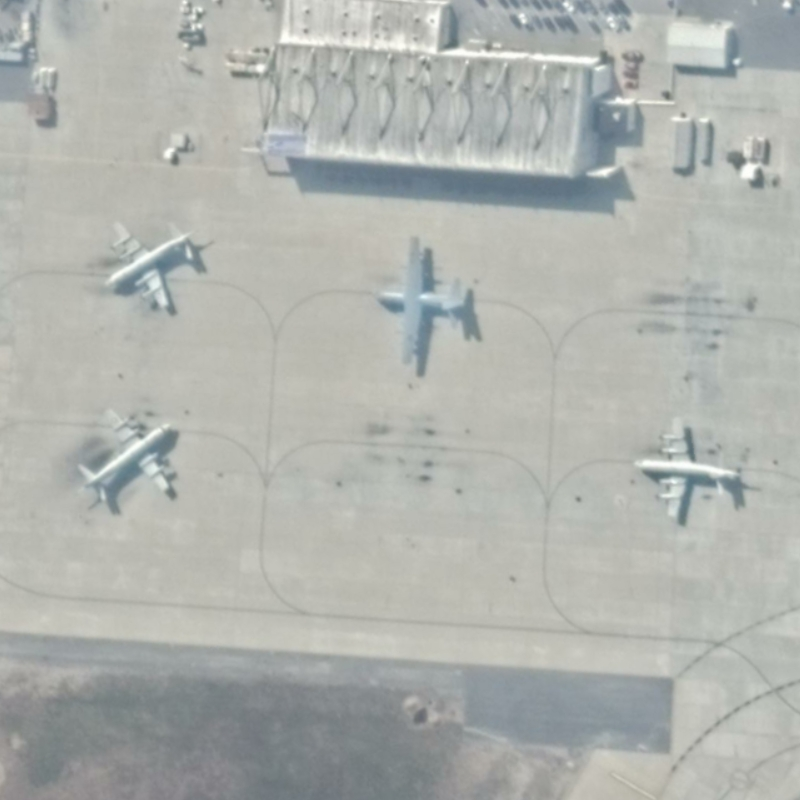A2: (371, 228, 476, 374)
A9: (73, 399, 186, 516), (632, 408, 742, 527), (97, 201, 206, 321)
